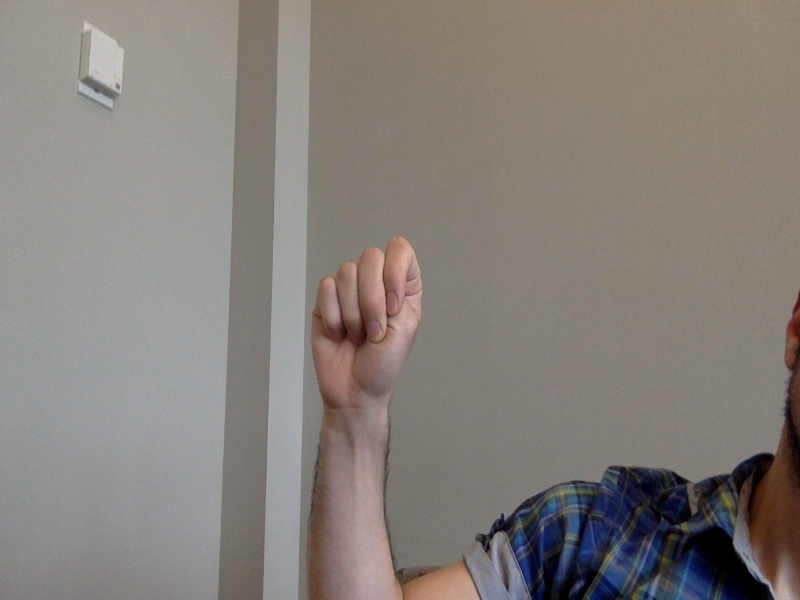0-hand: (309, 238, 425, 414)
